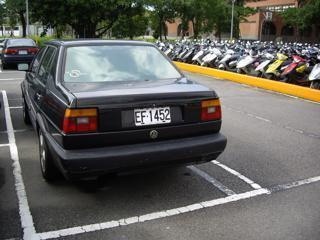plate: (130, 103, 174, 125)
